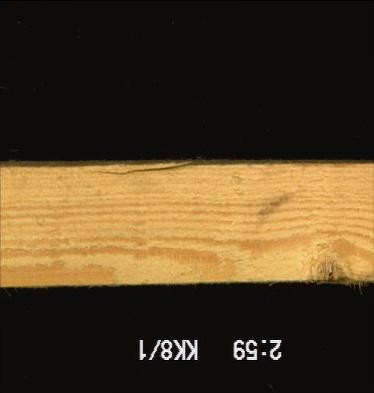edge_knot: (309, 248, 350, 281)
split: (87, 160, 196, 176)
